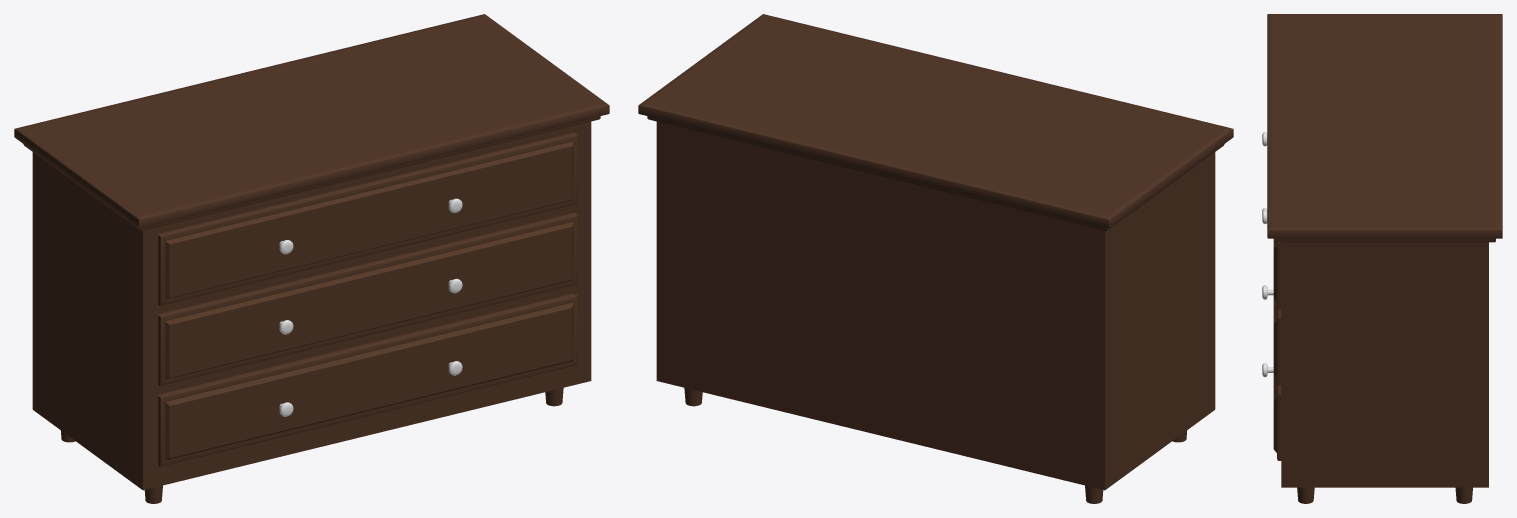
Rendered from Drawer.fbx.
3 views of the same model, side by side, from view 1: azimuth 30°, elevation 25°; view 2: azimuth 150°, elevation 25°; view 3: azimuth 270°, elevation 25° (orthographic). The views are drawn at different scales.
Visible parts, largest first — view 1: Cabbinet, Drawer03, Drawer01, Drawer02; view 2: Cabbinet; view 3: Cabbinet, Drawer02, Drawer03, Drawer01.
Part boxes in pixels (bbox=[...]): Cabbinet: bbox=[14, 14, 609, 503]; Drawer03: bbox=[158, 293, 577, 466]; Drawer01: bbox=[158, 132, 577, 305]; Drawer02: bbox=[158, 212, 577, 385]; Cabbinet: bbox=[638, 14, 1233, 503]; Cabbinet: bbox=[1267, 14, 1502, 503]; Drawer02: bbox=[1262, 208, 1281, 384]; Drawer03: bbox=[1262, 285, 1281, 460]; Drawer01: bbox=[1262, 132, 1281, 309].
Size of the model in its own units: 1.48 by 0.9149 by 0.695.
